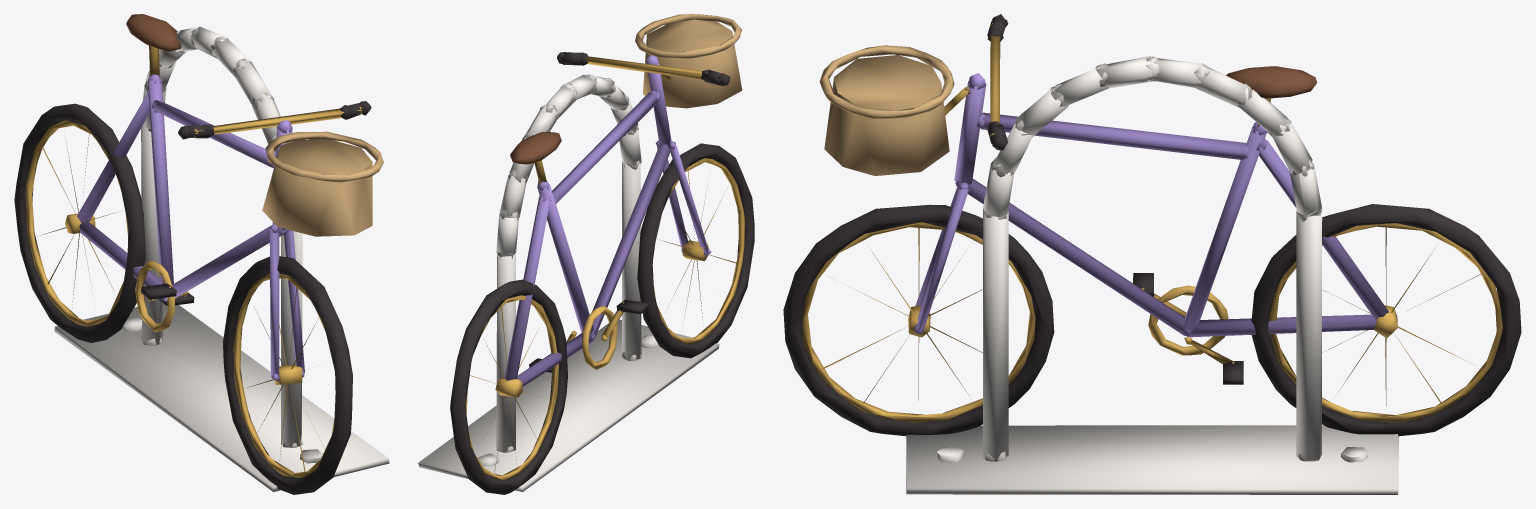
The model's file is bike-rack-white.glb.
The picture shows the model from 3 angles, left to right: view 1: azimuth 30°, elevation 25°; view 2: azimuth 150°, elevation 25°; view 3: azimuth 270°, elevation 25°; orthographic projection. The views are drawn at different scales.
Visible parts, largest first — view 1: bike-rack-white; view 2: bike-rack-white; view 3: bike-rack-white.
Part boxes in pixels (x1=…): bike-rack-white: x1=14, y1=14, x2=389, y2=494; bike-rack-white: x1=418, y1=14, x2=754, y2=494; bike-rack-white: x1=783, y1=14, x2=1521, y2=494.
Size of the model in its own units: 0.5551 by 1.01 by 1.64.
